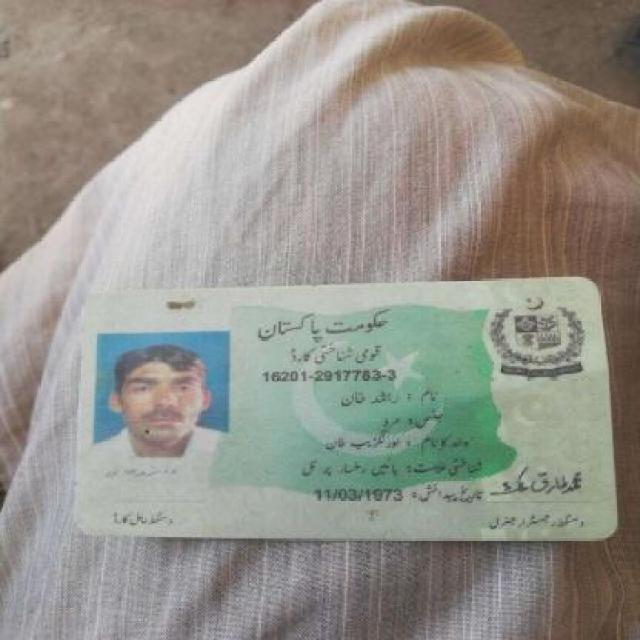Front: (68, 283, 614, 546)
